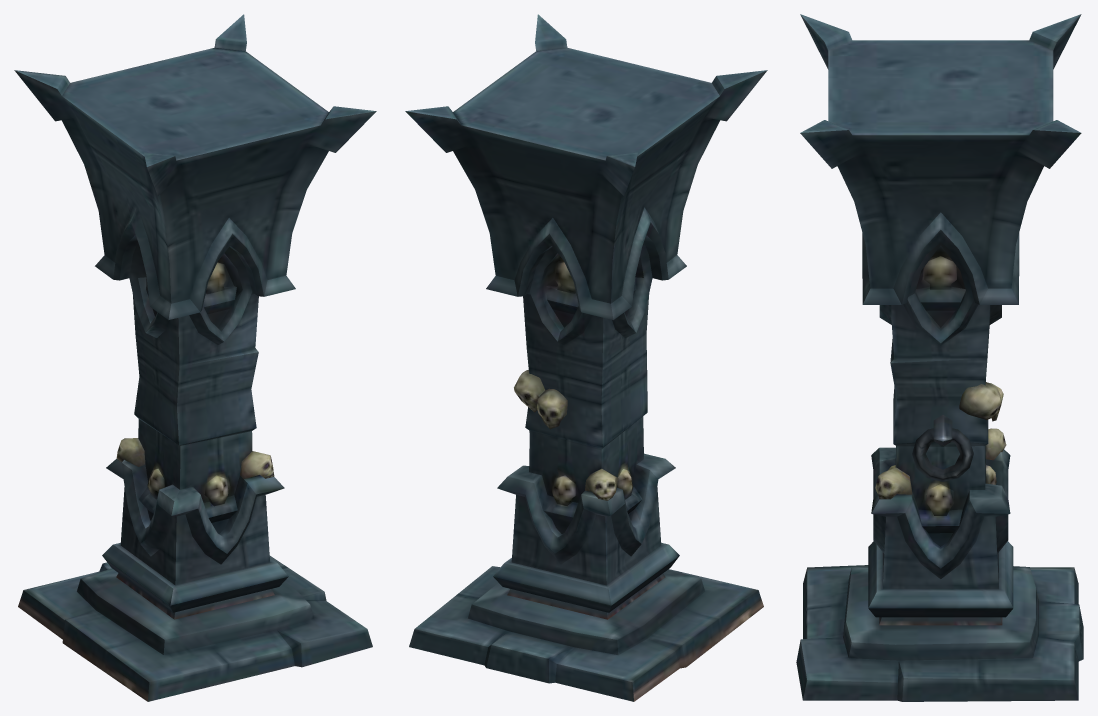
The model's file is pillar.fbx.
3 renders of one model, left to right at view 1: azimuth 30°, elevation 25°; view 2: azimuth 150°, elevation 25°; view 3: azimuth 270°, elevation 25°, orthographic. The views are drawn at different scales.
Parts seen in each view (by area): view 1: pillar; view 2: pillar; view 3: pillar.
Boxes of the visible parts, x1,y1,x2,y2 form: pillar: [14, 14, 376, 701]; pillar: [405, 14, 767, 701]; pillar: [796, 14, 1083, 701].
Size of the model in its own units: 104 by 231 by 106.
